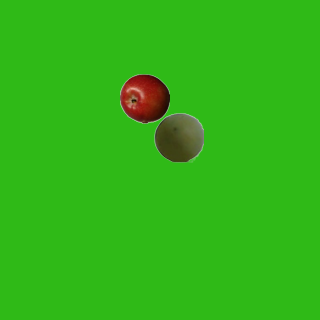Apple Braeburn: (119, 73, 169, 123)
Grape White 4: (153, 112, 203, 162)
